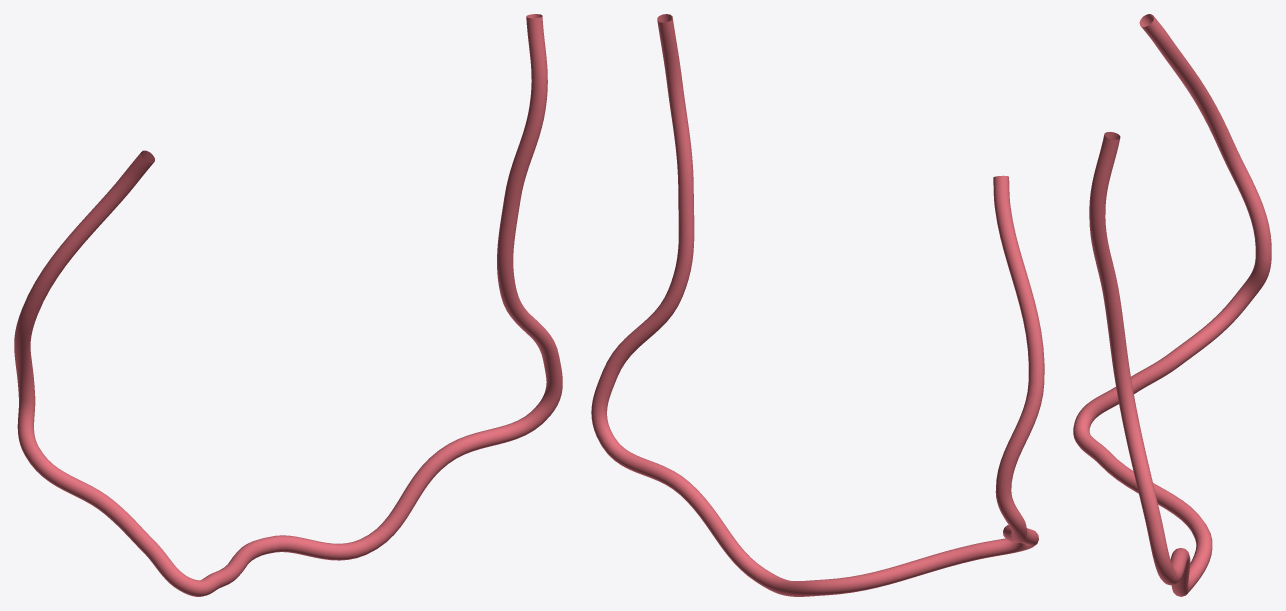
3 renders of one model, left to right at view 1: azimuth 30°, elevation 25°; view 2: azimuth 150°, elevation 25°; view 3: azimuth 270°, elevation 25°, orthographic. The views are drawn at different scales.
Parts seen in each view (by area): view 1: ZA_c4e77b642991411b; view 2: ZA_c4e77b642991411b; view 3: ZA_c4e77b642991411b.
Boxes of the visible parts, bbox=[...] form: ZA_c4e77b642991411b: bbox=[14, 14, 562, 596]; ZA_c4e77b642991411b: bbox=[591, 14, 1044, 596]; ZA_c4e77b642991411b: bbox=[1073, 14, 1271, 596].
Bounding box in the file's own units: 0.0487 × 0.0492 × 0.0168.
